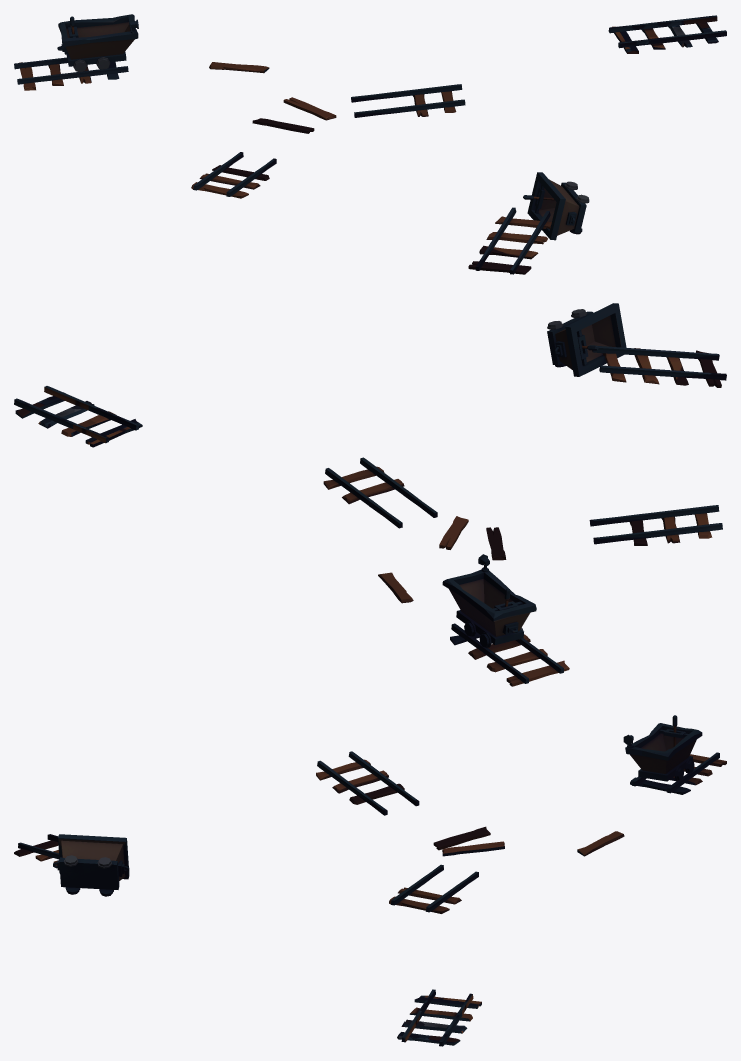
Rendered from Rail_01.FBX.
3 views of the same model, one above another, from view 1: azimuth 30°, elevation 25°; view 2: azimuth 150°, elevation 25°; view 3: azimuth 270°, elevation 25° (orthographic). The views are drawn at different scales.
Visible parts, largest first — view 1: Rail_01; view 2: Rail_01; view 3: Rail_01.
Part boxes in pixels (box(x1,y1,x2,y2)): Rail_01: box(14, 14, 726, 274); Rail_01: box(14, 303, 726, 686); Rail_01: box(14, 715, 726, 1046).
Size of the model in its own units: 23.54 by 2.64 by 23.51.
